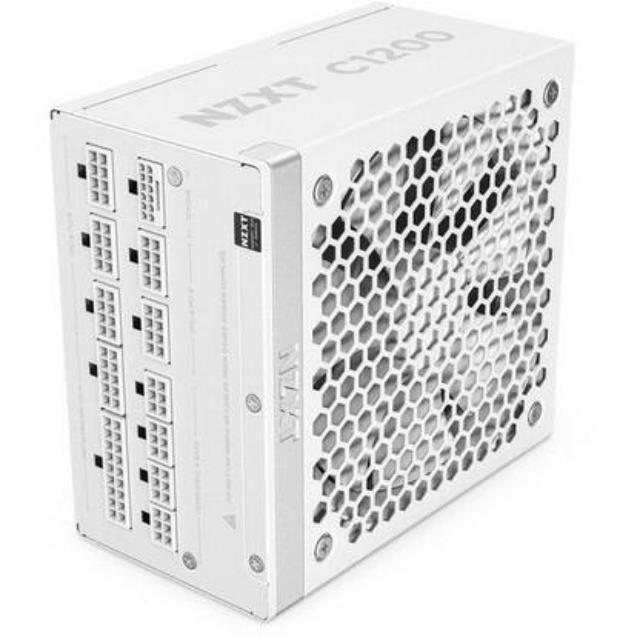PSU: (50, 2, 595, 620)
